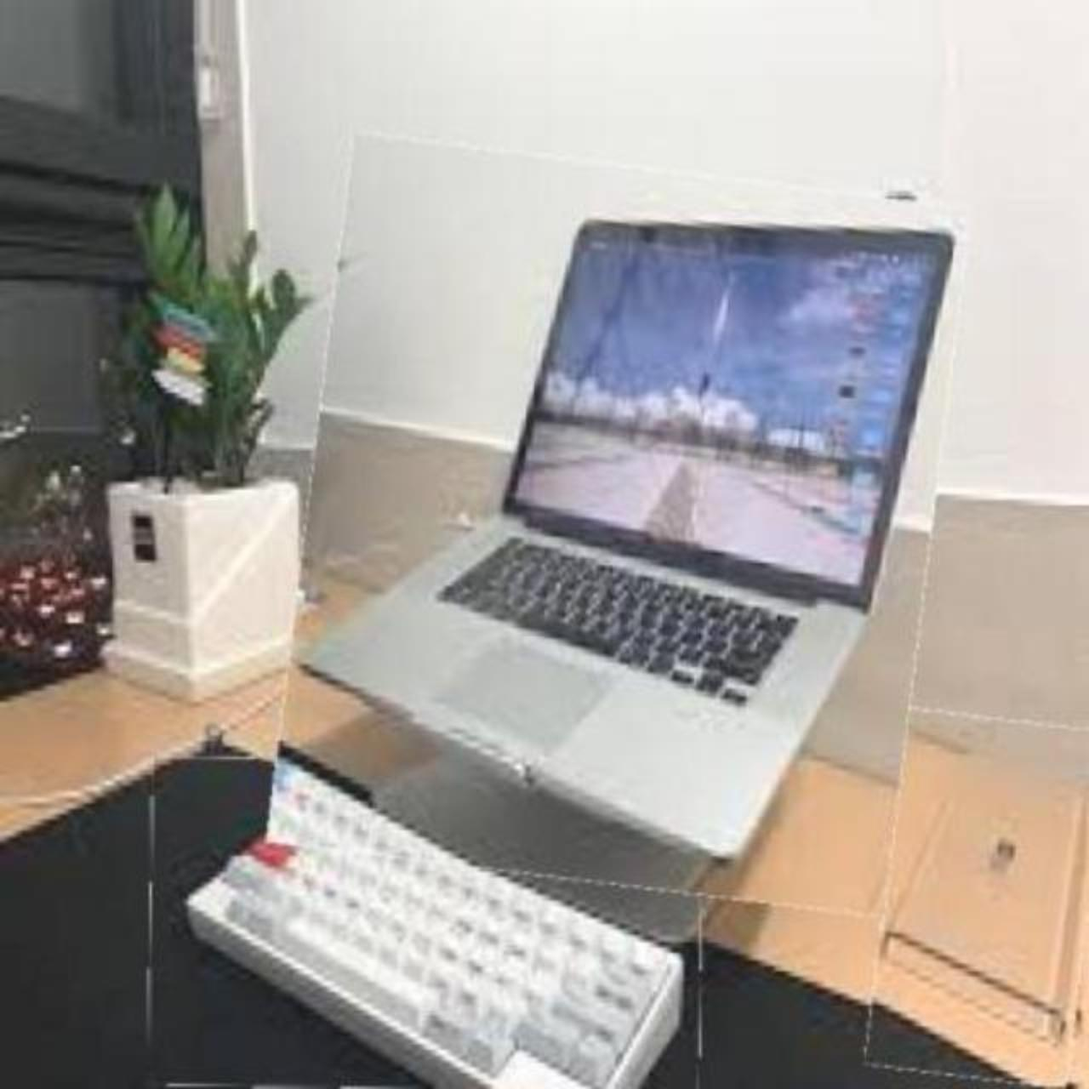laptop: (287, 150, 949, 898)
